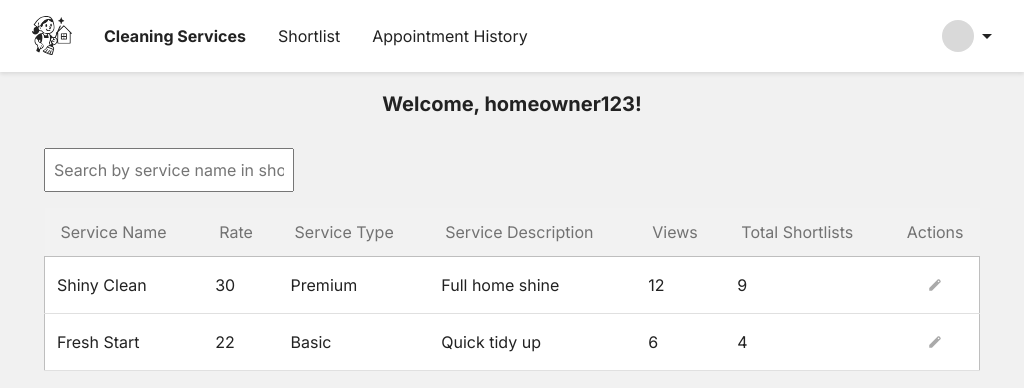
Test: HomeownerShortlistManagementUI - View & Search Shortlist › filters shortlisted services based on search input
This screenshot has width=1024, height=388.
Expected: the number of rows with test id "service-row" is 2, [44,256,980,314]; [44,314,980,370]
Step 1. Type "Shiny" into the field with placeholder "Search by service name in shortlist" → (169, 170), box [44,148,294,192]
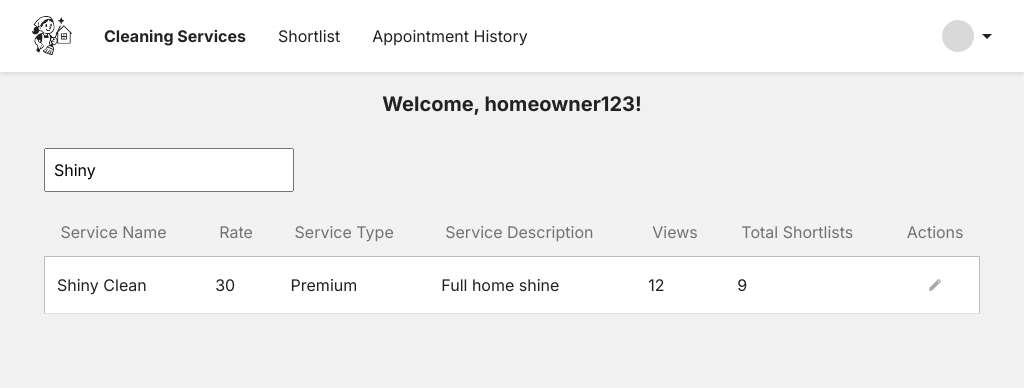
Expected: the row with test id "service-row" shows "Shiny Clean", [57,275,147,295]
Result: the number of rows with test id "service-row" is 1 at [44,256,980,314]
